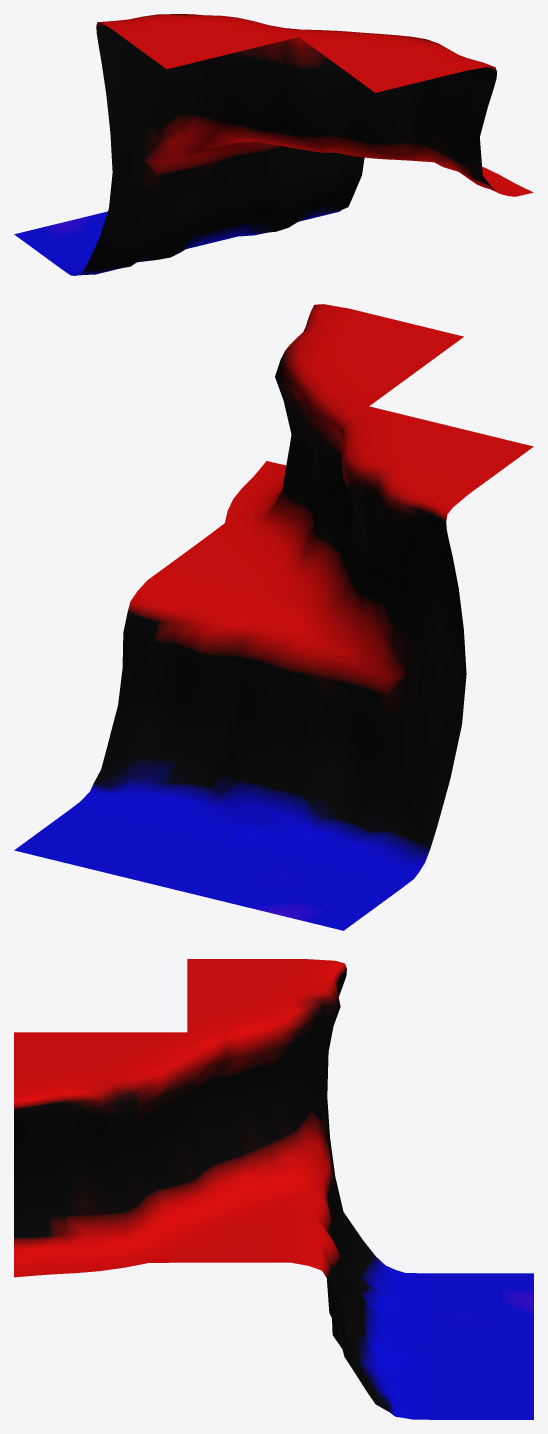
File: RiveCliffToCliff 1x2x1 Foreground.fbx
The picture shows the model from 3 angles, top to bottom: view 1: azimuth 30°, elevation 25°; view 2: azimuth 150°, elevation 25°; view 3: azimuth 270°, elevation 25°; orthographic projection. The views are drawn at different scales.
Parts seen in each view (by area): view 1: RiveCliffToCliff 1x2x1 Foreground; view 2: RiveCliffToCliff 1x2x1 Foreground; view 3: RiveCliffToCliff 1x2x1 Foreground.
Boxes of the visible parts, x1,y1,x2,y2 form: RiveCliffToCliff 1x2x1 Foreground: [14, 14, 533, 275]; RiveCliffToCliff 1x2x1 Foreground: [14, 304, 533, 930]; RiveCliffToCliff 1x2x1 Foreground: [14, 959, 533, 1419].
Bounding box in the file's own units: 2.2 × 2 × 3.
